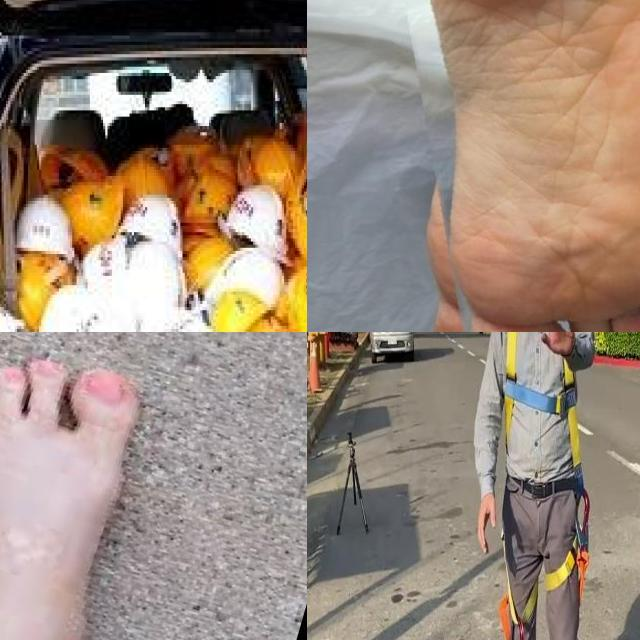Barefoots: (384, 0, 640, 332), (0, 366, 123, 640)
Harness: (503, 332, 581, 470), (545, 488, 591, 598), (498, 582, 538, 640)
